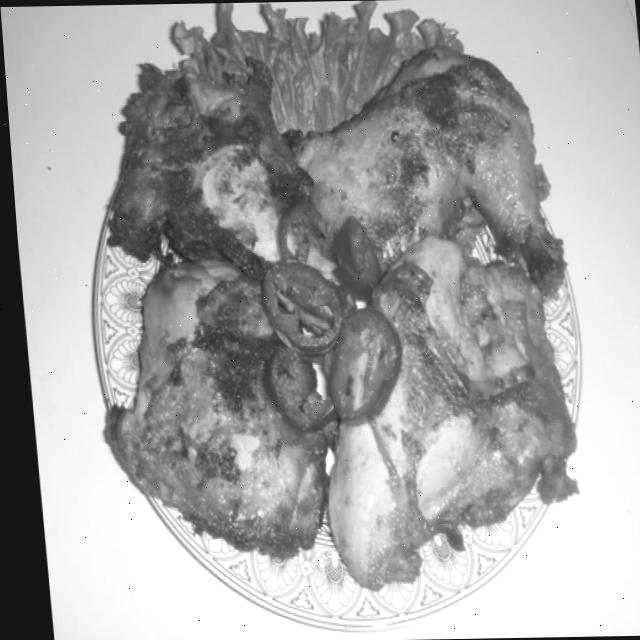鸡肉料理 含炸鸡: (51, 0, 590, 610)
